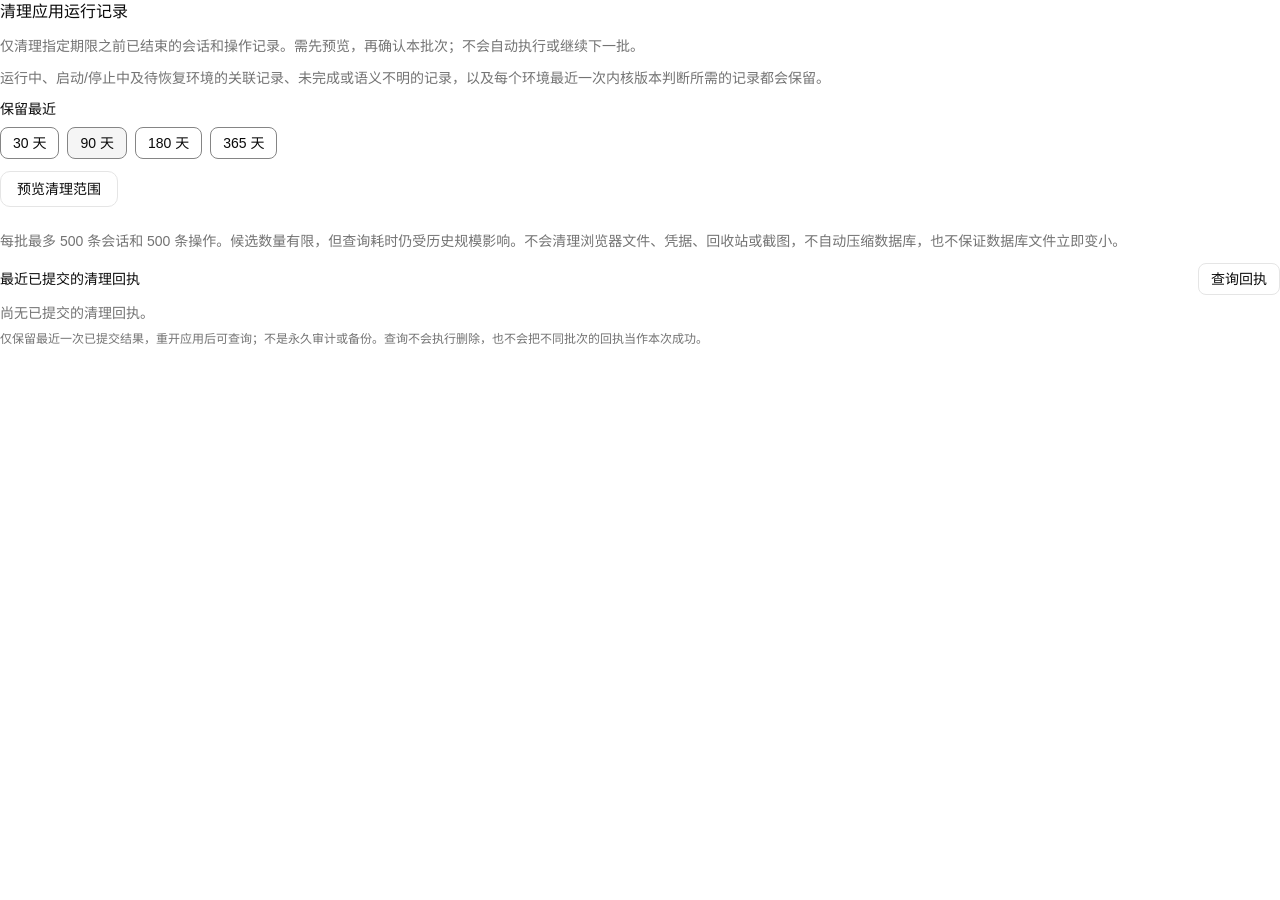
Test: defaults to 90 days, requires preview plus explicit confirmation, and reports skipped rows without auto-continuing
Click the button "预览清理范围": (59, 189) 0,171 -> 118,207
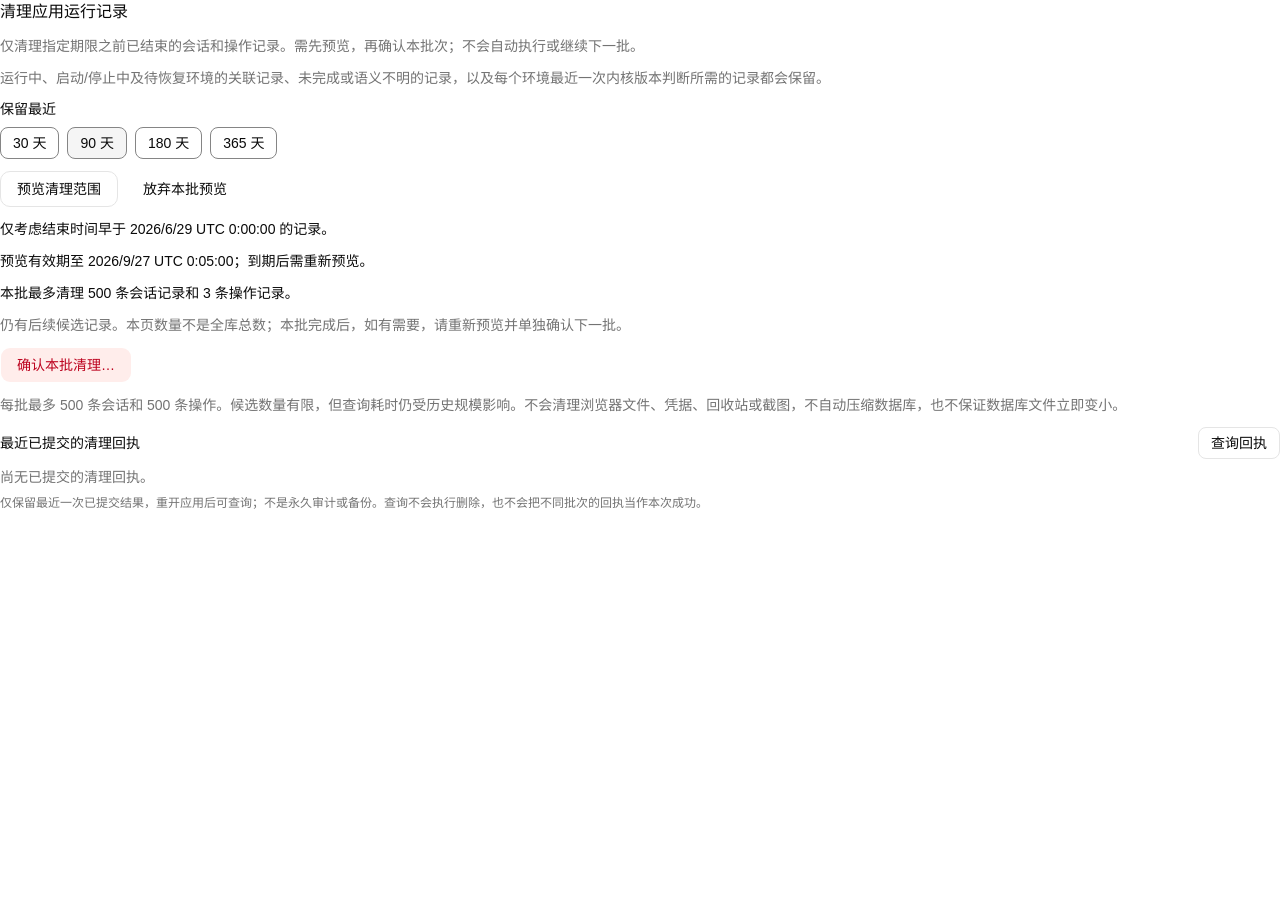
Check: the text "500 条会话记录和 3 条操作记录" is shown, box 0,285 -> 299,301
Check: the text "数量不是全库总数" is shown, box 0,317 -> 630,333
Click the button "确认本批清理…": (66, 365) 0,347 -> 132,383
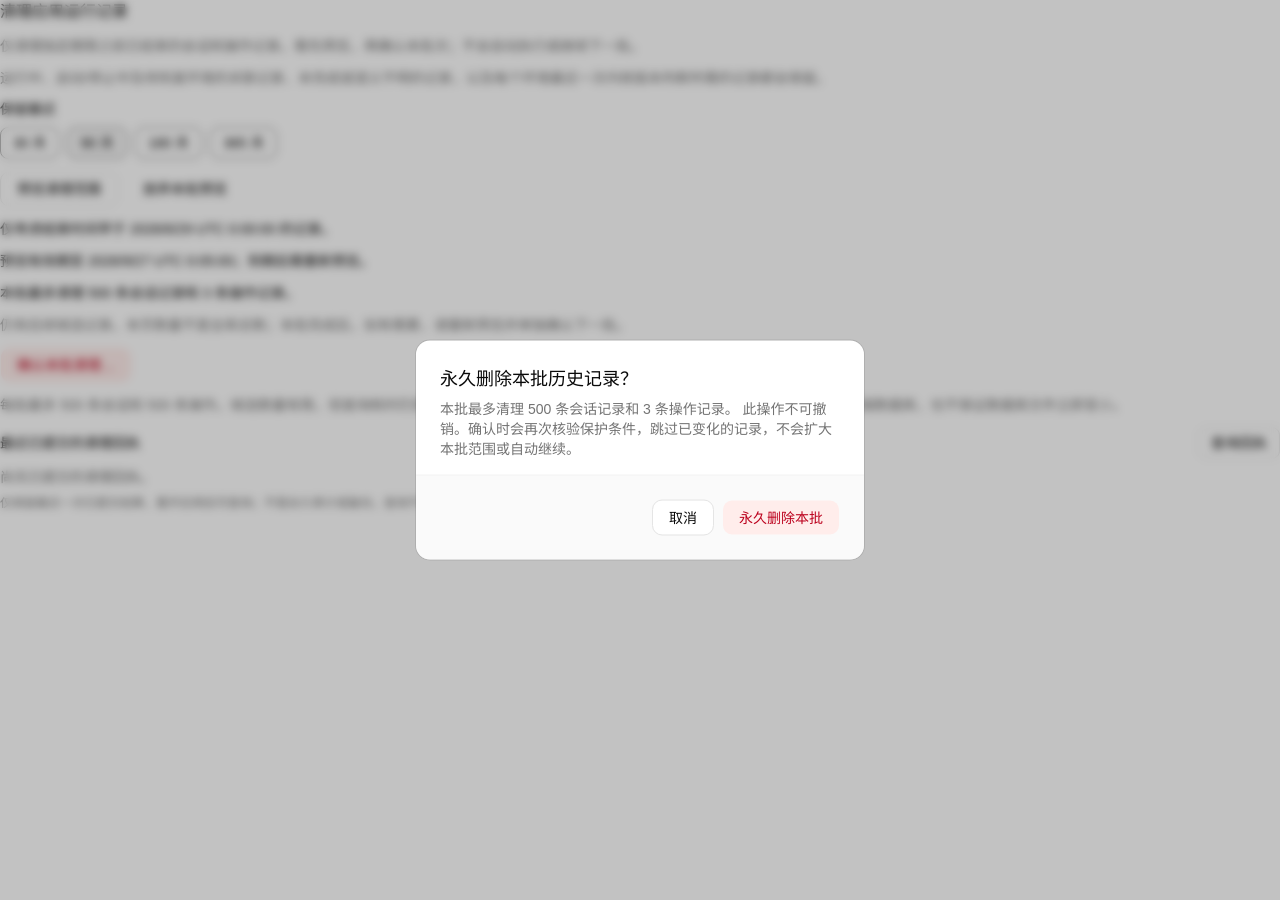
Check: the dialog shows "此操作不可撤销", box 440,400 -> 832,456
Click the button "取消": (683, 518) 652,500 -> 714,536
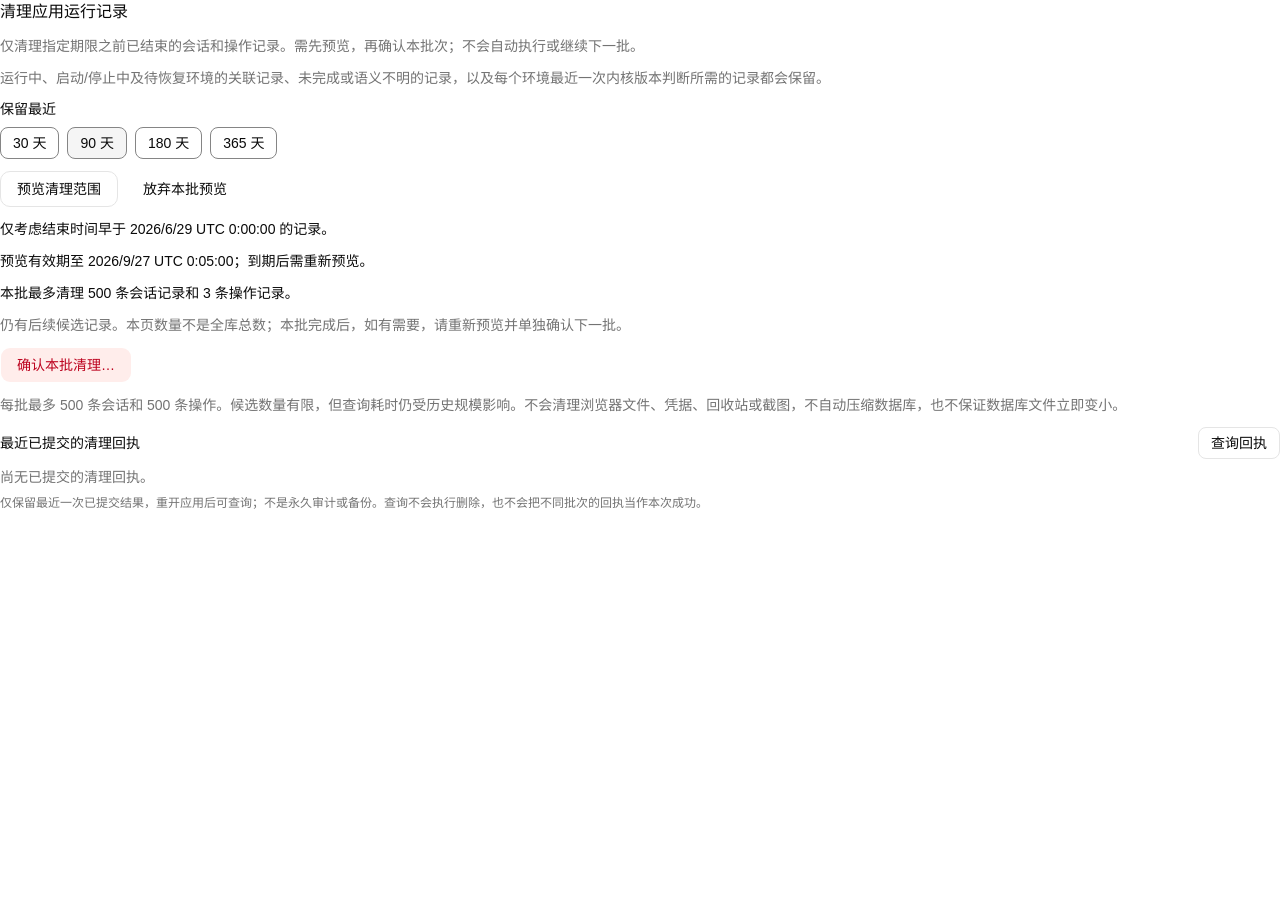
Click the button "确认本批清理…": (66, 365) 0,347 -> 132,383
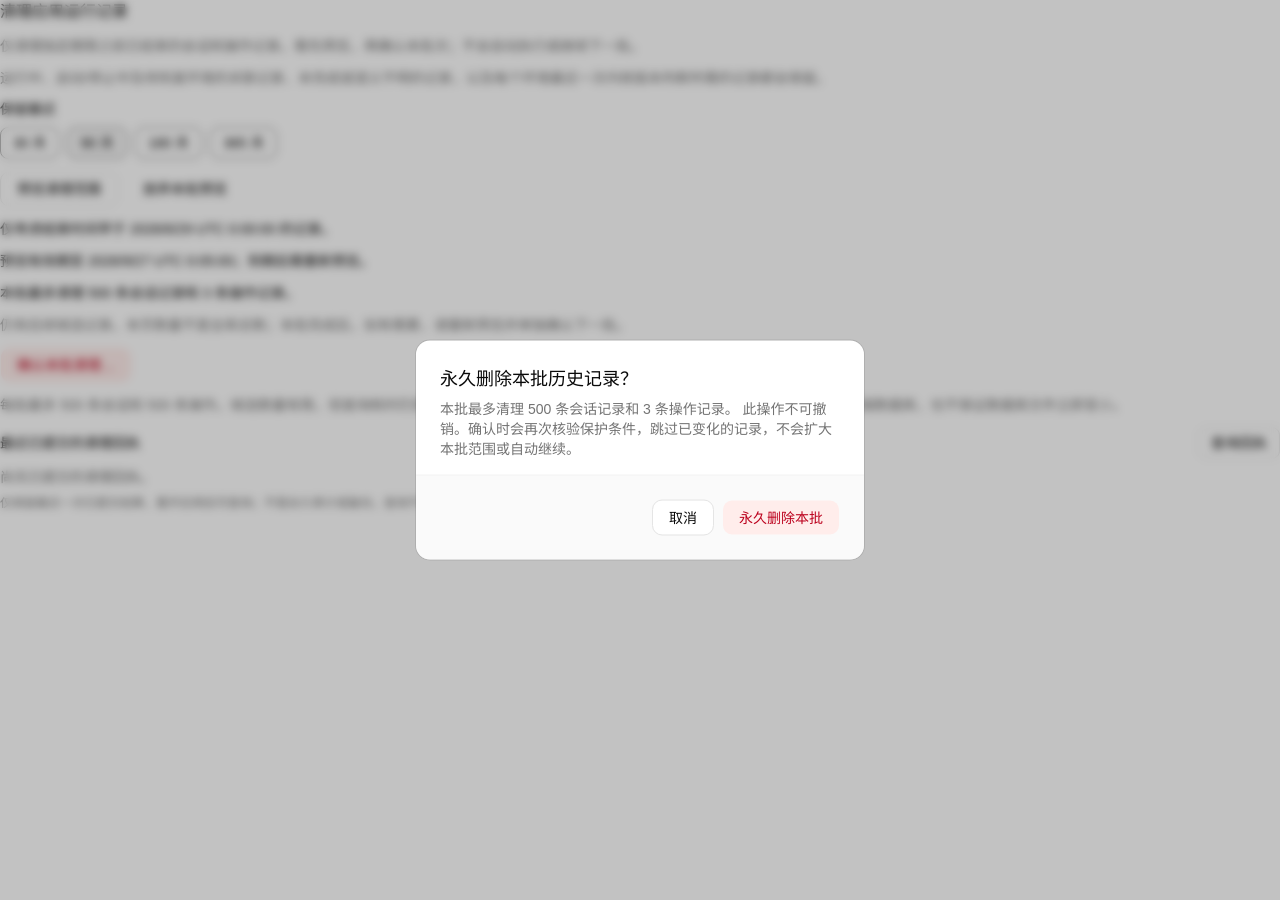
Click the button "永久删除本批": (781, 518) 722,500 -> 840,536
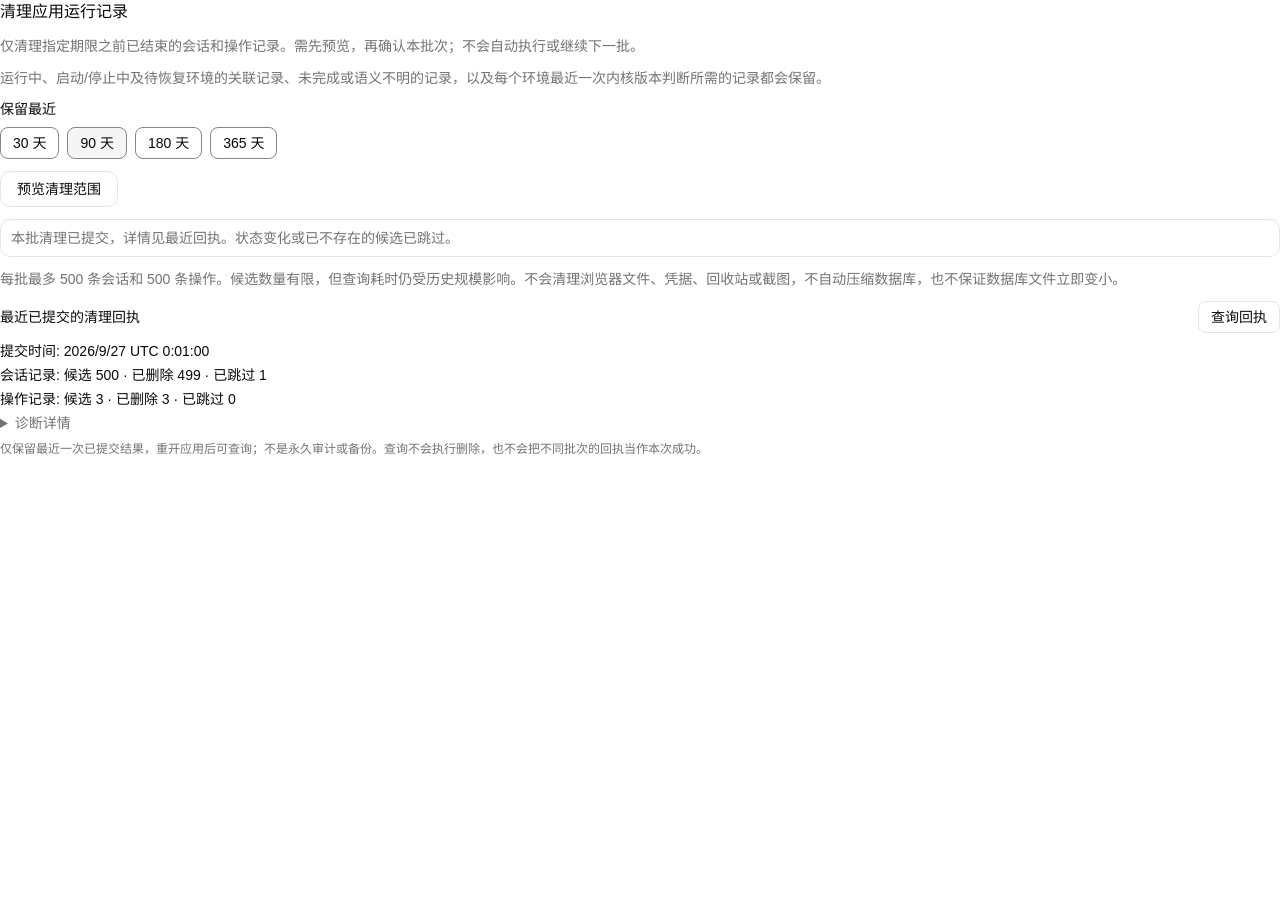
Check: the text "候选 500 · 已删除 499 · 已跳过 1" is shown, box 64,367 -> 267,383
Check: the text "本批清理已提交" is shown, box 11,230 -> 459,246
